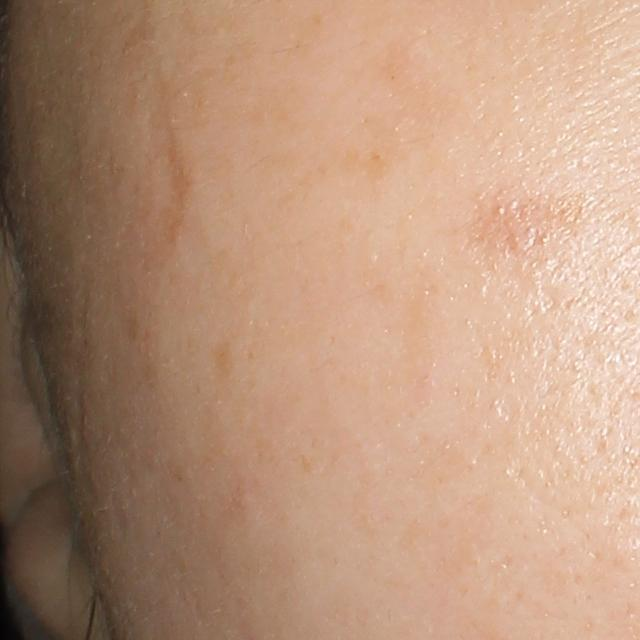melasma: (454, 175, 620, 284)
